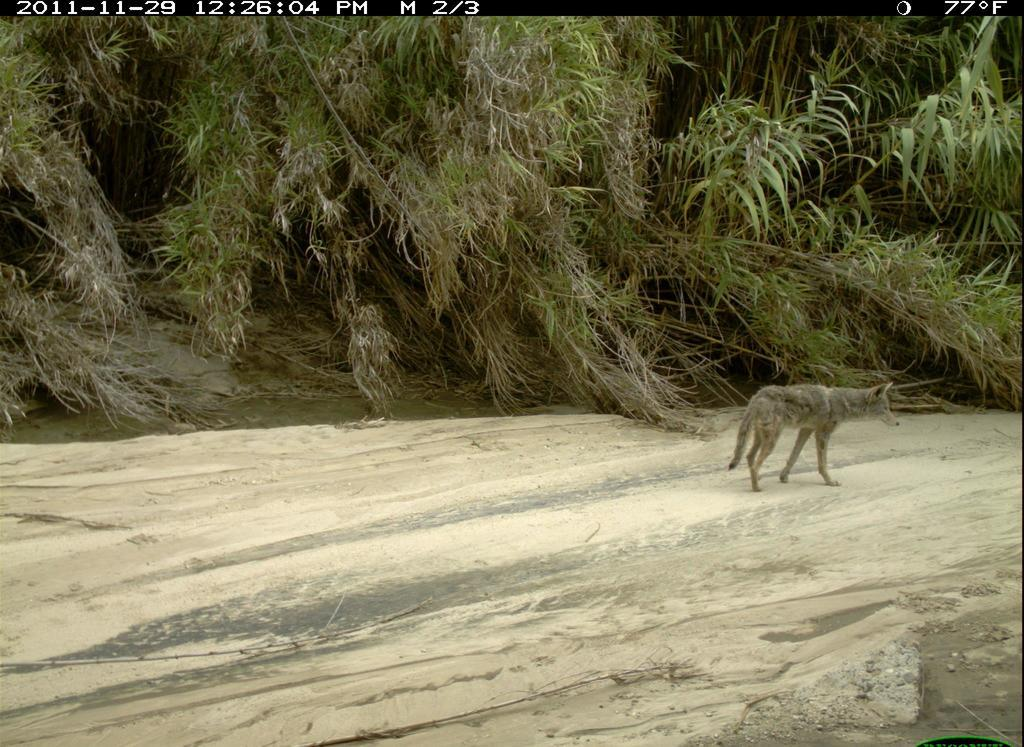coyote: (724, 368, 918, 495)
